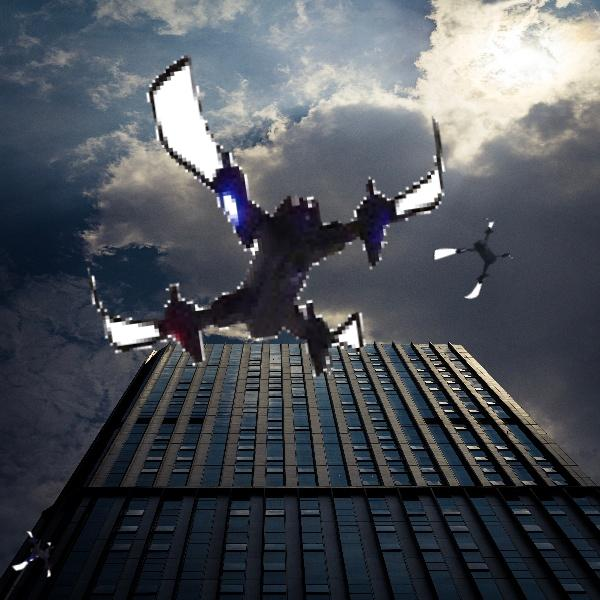drone: (72, 6, 466, 400), (435, 221, 518, 304), (5, 529, 59, 583)
